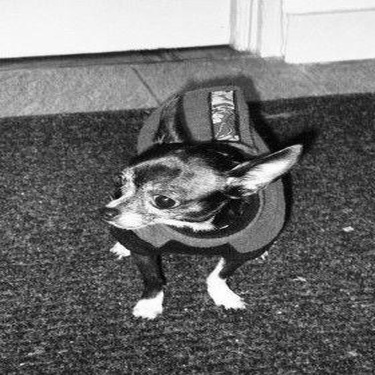dog: (89, 63, 311, 322)
